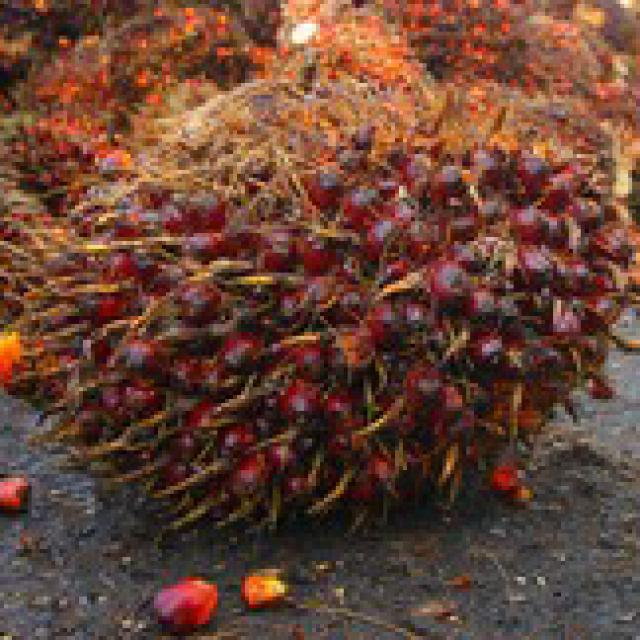FFB: (37, 142, 634, 522)
